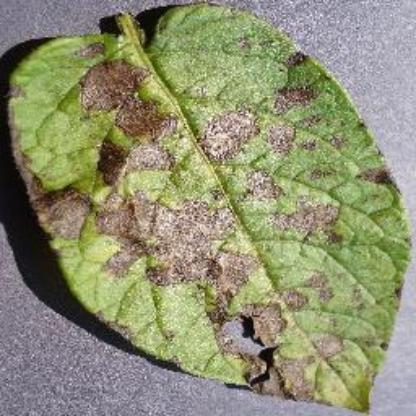Early-Blight: (7, 1, 396, 406)
